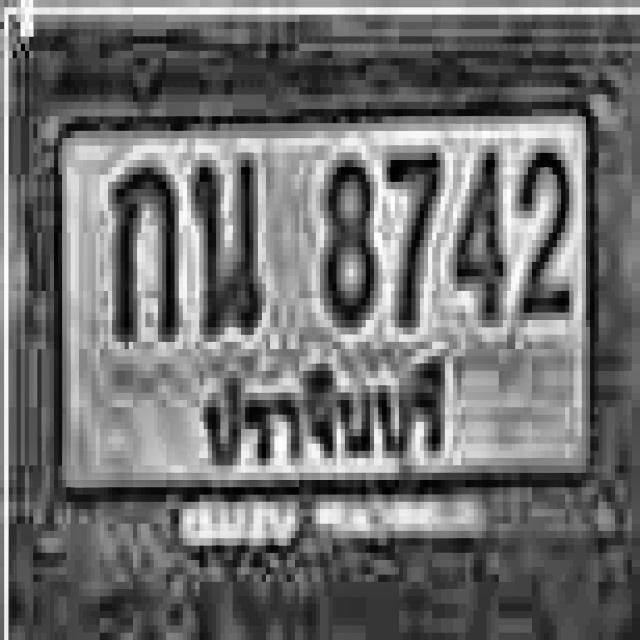license-plate: (34, 90, 629, 577)
